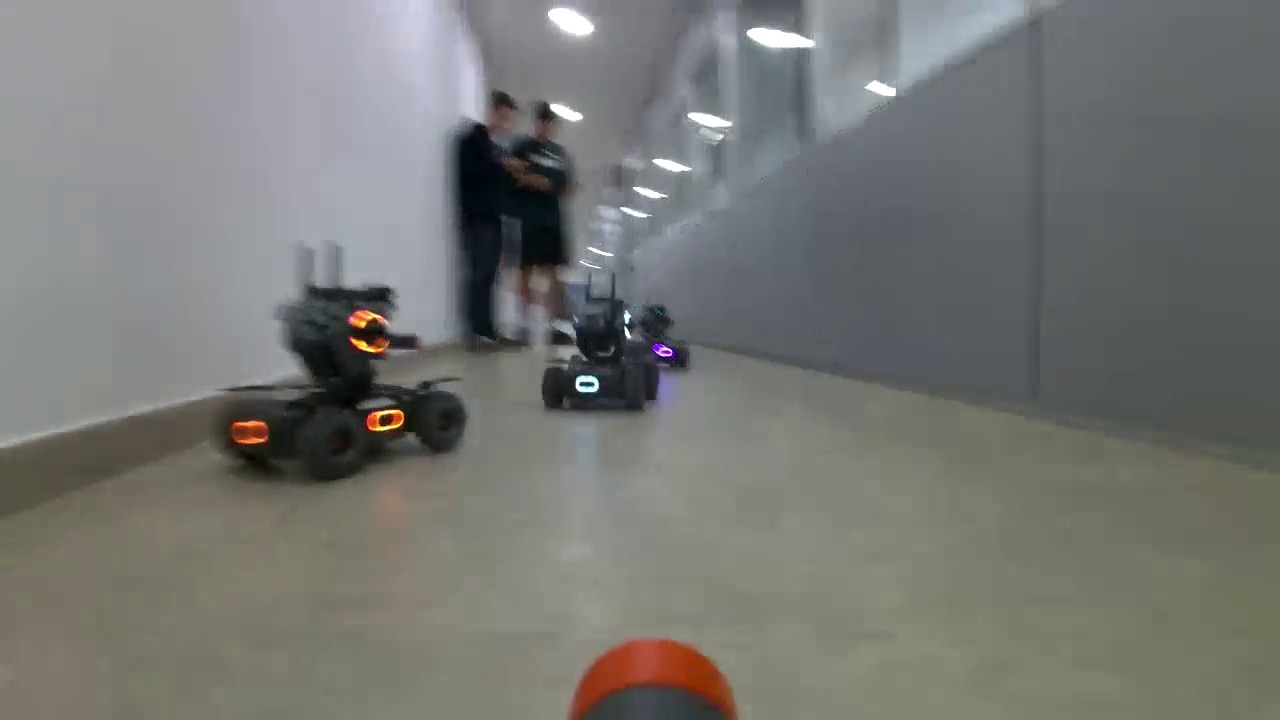robot: (215, 280, 469, 485), (539, 296, 659, 415), (628, 301, 693, 369)
